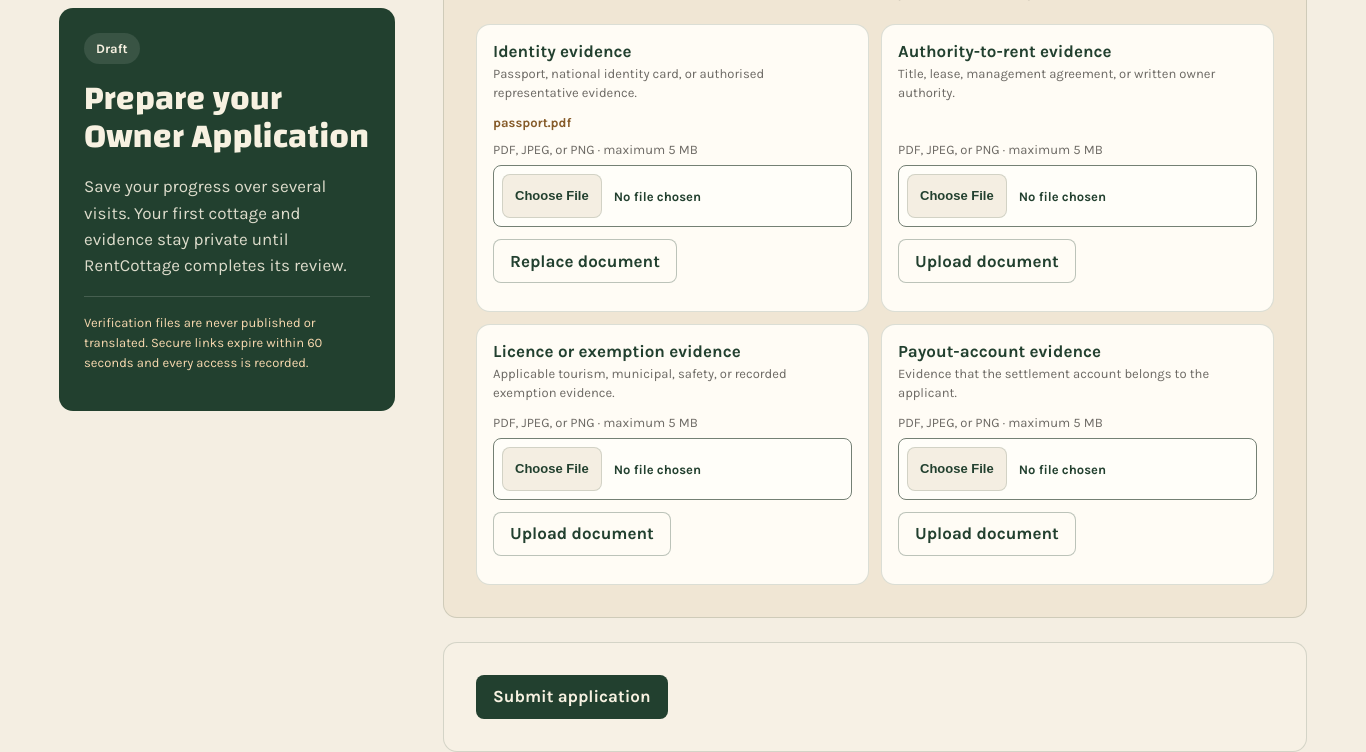
Test: Owner Application form › keeps the final submission pending and suppresses repeat activation
(page scrolled)
Submit the form "Submit application", box [476,675,668,719]
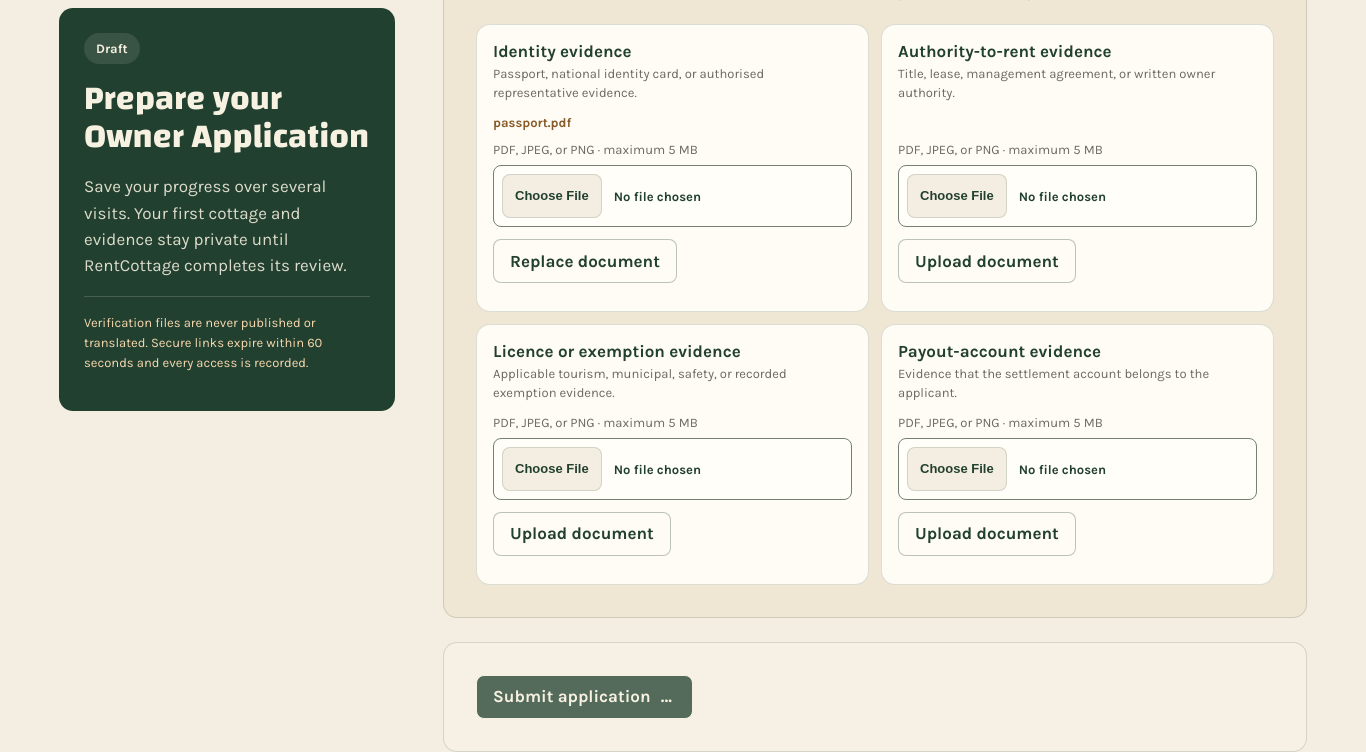
Expected: the button "Submit application" is disabled
Click the button "Submit application": (584, 697) [476,675,692,719]
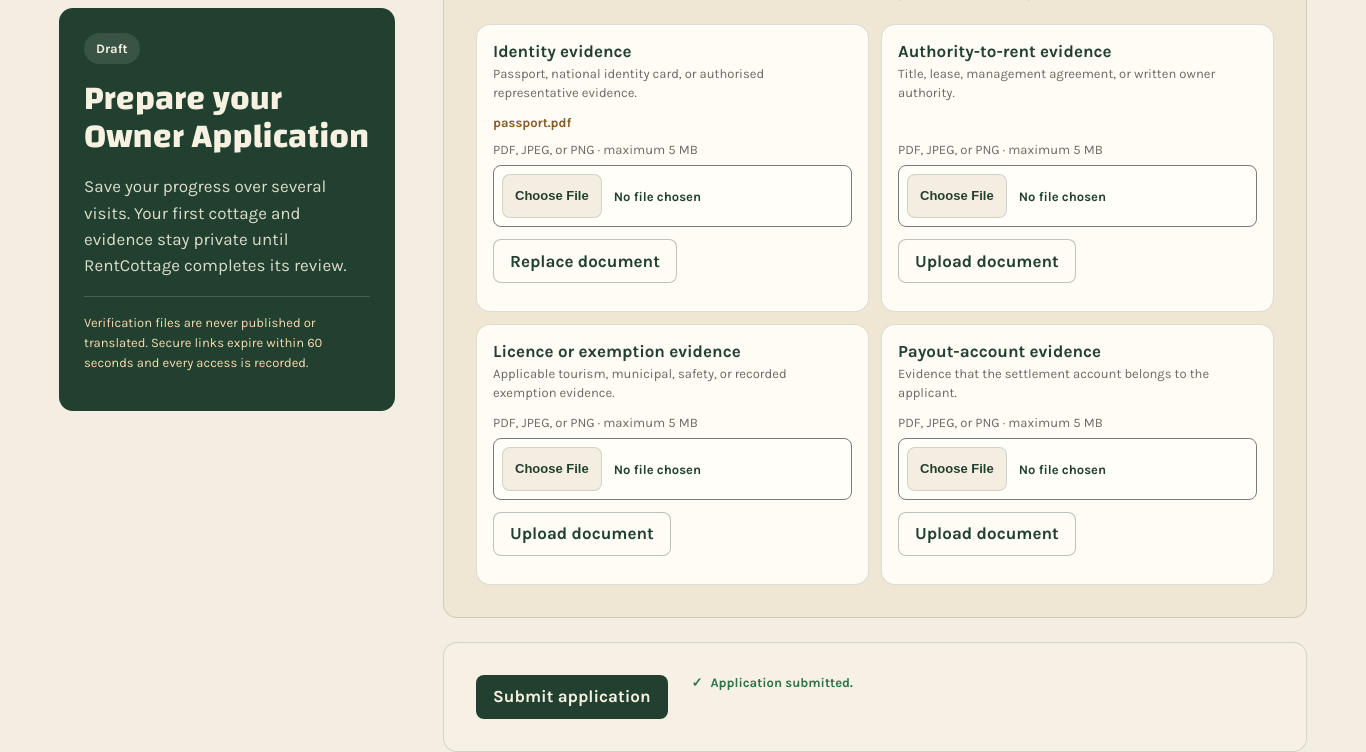
Expected: the message shows "Application submitted.", [710,675,853,690]
